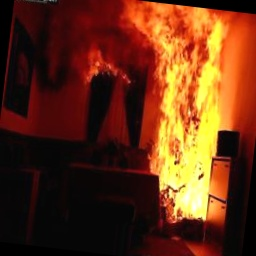fire: (97, 0, 256, 226)
